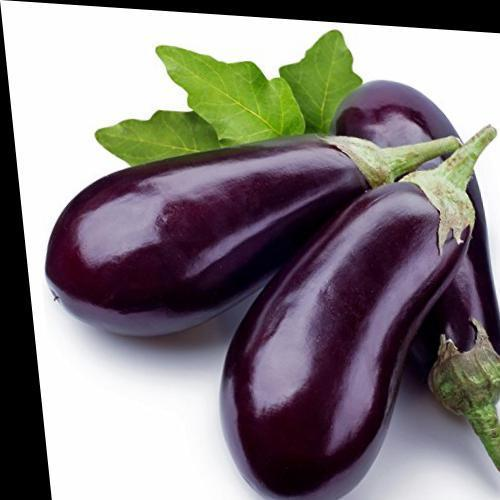eggplant: (82, 52, 498, 455)
